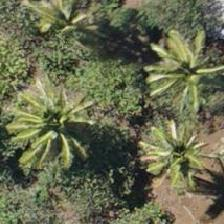coconut_tree: (13, 78, 103, 168), (135, 113, 223, 203), (141, 26, 223, 116), (11, 0, 101, 55)
